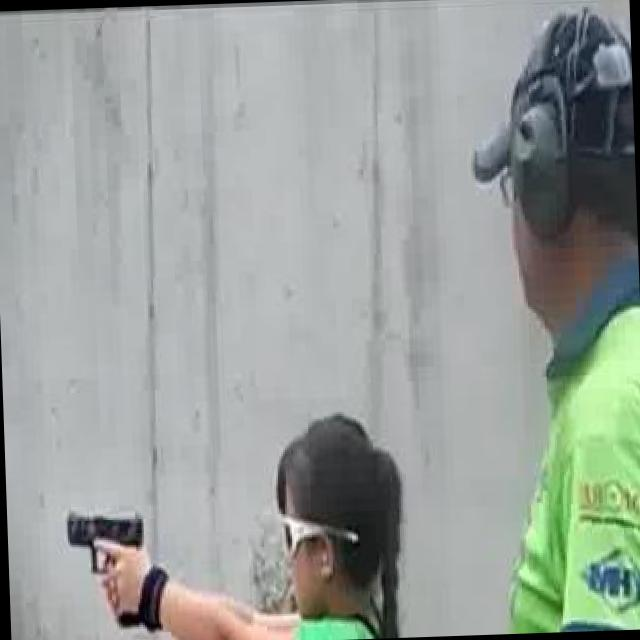Guns: (58, 494, 156, 573)
